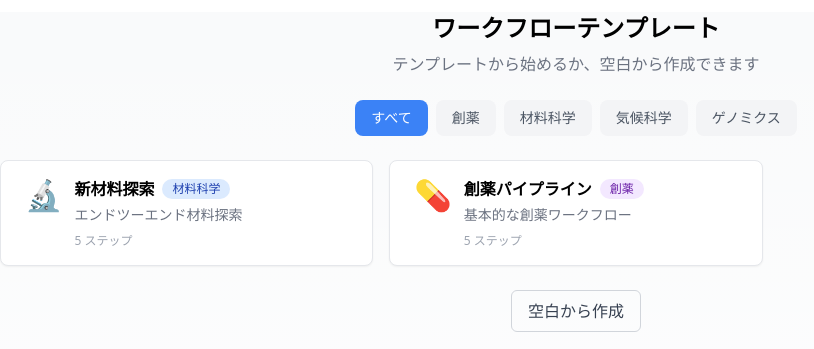
Test: Workflow Components › WorkflowTemplateSelection › should filter by domain
Step 1. Click the button "創薬" → (466, 118), box [436,100,496,136]
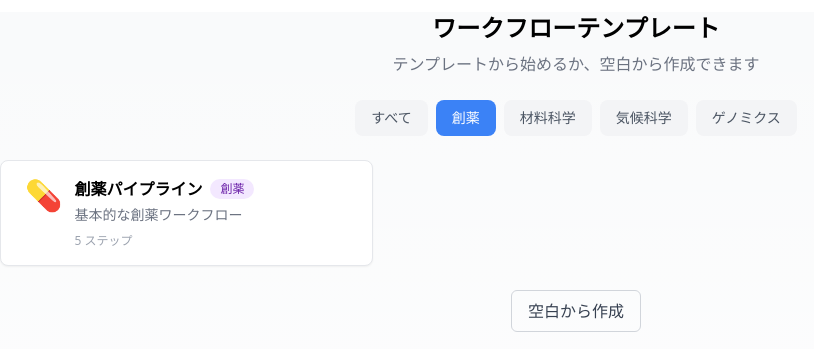
Check: the heading "創薬パイプライン" is shown, box [74,177,202,201]
Check: the heading "新材料探索" is gone
